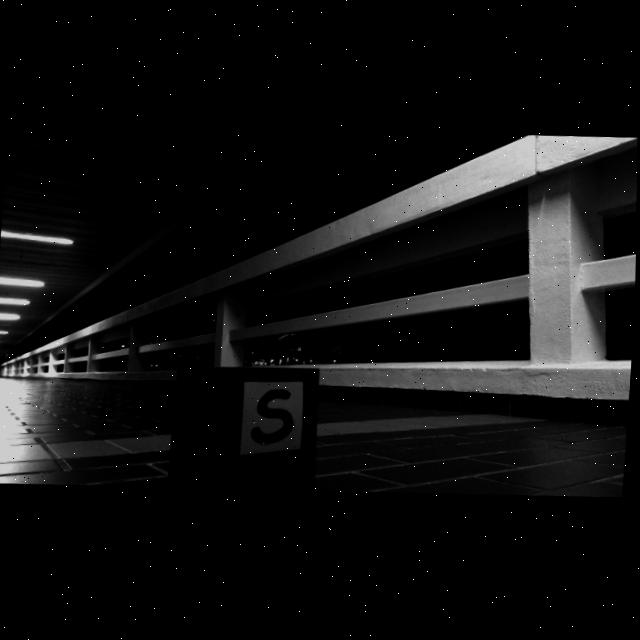S: (253, 392, 295, 446)
